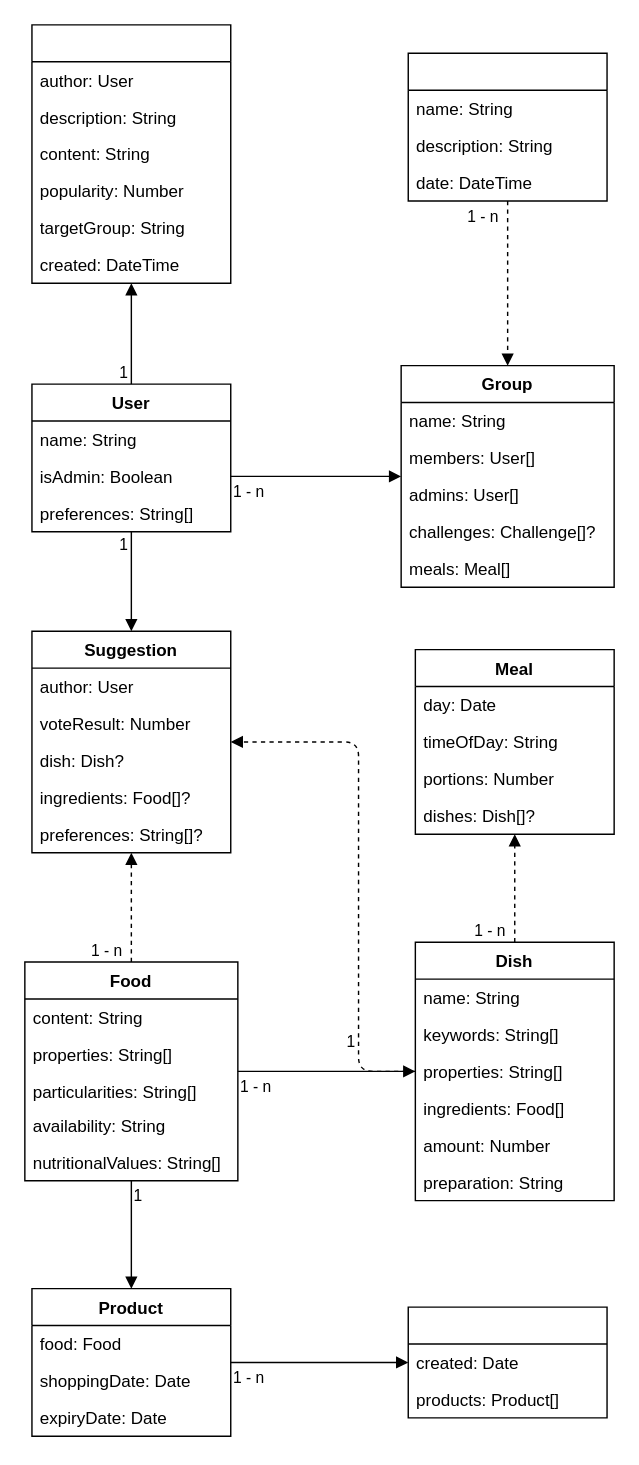
The diagram is 639 pixels wide and 1465 high, and some of its shapes have lost their labels. Here are the shapes that lost their labels. From the top down, the box of each, then its label:
(407, 52, 607, 201): Challenge
(31, 23, 231, 283): Information
(407, 1306, 607, 1418): ShoppingList
